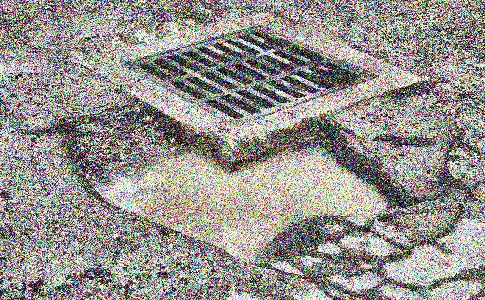pothole: (51, 99, 416, 265)
